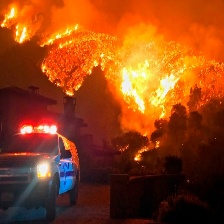fire: (111, 42, 179, 122), (41, 32, 116, 88), (186, 47, 224, 99), (39, 23, 79, 49), (132, 140, 158, 163), (1, 1, 18, 29), (14, 24, 33, 44)
smoke: (46, 1, 224, 46)
